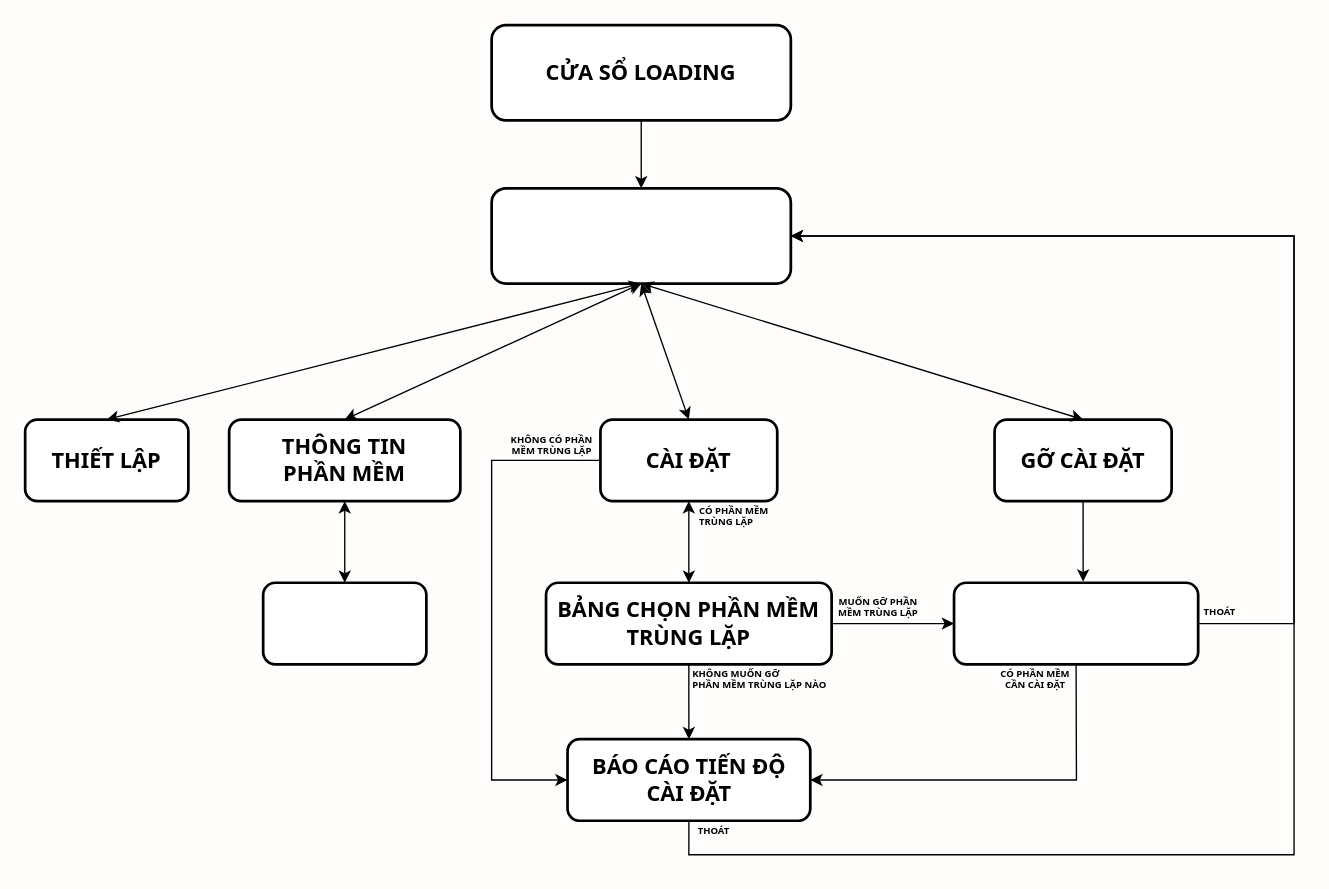
Image size: 1329x889. Some labels were removed from this diagram. Here are the shapes that lost their labels. From the top down, the centre of each, then its label:
the point at 641,235: MÀN HÌNH CHÍNH
the point at 344,623: PHẢN HỒI
the point at 1075,623: BÁO CÁO TIẾN ĐỘ GỠ CÀI ĐẶT
